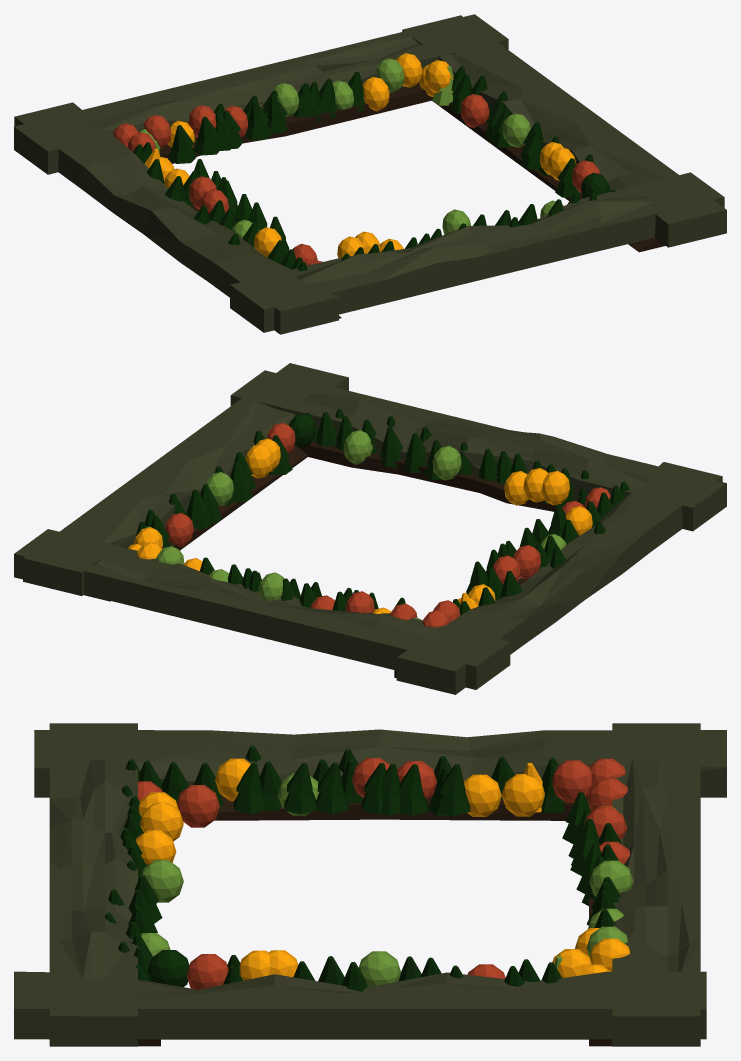
Rendered from borders1.glb.
3 views of the same model, one above another, from view 1: azimuth 30°, elevation 25°; view 2: azimuth 150°, elevation 25°; view 3: azimuth 270°, elevation 25° (orthographic). The views are drawn at different scales.
Visible parts, largest first — view 1: Cube.003, Cylinder.014, Icosphere.029, Icosphere.011, Icosphere.027, Cube.004, Cylinder.003, Cylinder.002; view 2: Cube.003, Cylinder.014, Icosphere.029, Icosphere.011, Cube.004, Icosphere.027, Cylinder.002; view 3: Cube.003, Cylinder.014, Icosphere.029, Icosphere.011, Cylinder.002, Icosphere.027, Cube.004, Cylinder.003.
Boxes of the visible parts, <box> form: Cube.003: <box>14,14,726,334</box>; Cylinder.014: <box>133,66,615,271</box>; Icosphere.029: <box>144,53,576,258</box>; Icosphere.011: <box>113,94,599,265</box>; Icosphere.027: <box>140,58,563,237</box>; Cube.004: <box>159,83,665,318</box>; Cylinder.003: <box>167,85,315,163</box>; Cylinder.002: <box>194,159,289,254</box>; Cube.003: <box>14,363,726,694</box>; Cylinder.014: <box>136,409,629,615</box>; Icosphere.029: <box>128,438,592,613</box>; Icosphere.011: <box>165,423,610,627</box>; Cube.004: <box>84,441,585,678</box>; Icosphere.027: <box>146,430,566,619</box>; Cylinder.002: <box>466,505,566,594</box>; Cube.003: <box>14,723,726,1046</box>; Cylinder.014: <box>105,745,622,991</box>; Icosphere.029: <box>135,758,629,980</box>; Icosphere.011: <box>138,758,629,989</box>; Cylinder.002: <box>234,762,470,815</box>; Icosphere.027: <box>141,773,633,986</box>; Cube.004: <box>49,795,612,1046</box>; Cylinder.003: <box>562,792,604,907</box>.
Bounding box in the file's own units: 81.1 × 7.96 × 83.47.
